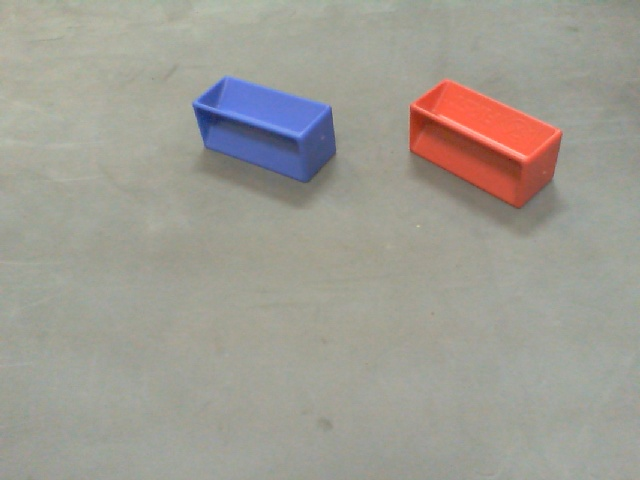BlueSample: (192, 76, 337, 184)
RedSample: (407, 74, 565, 211)
